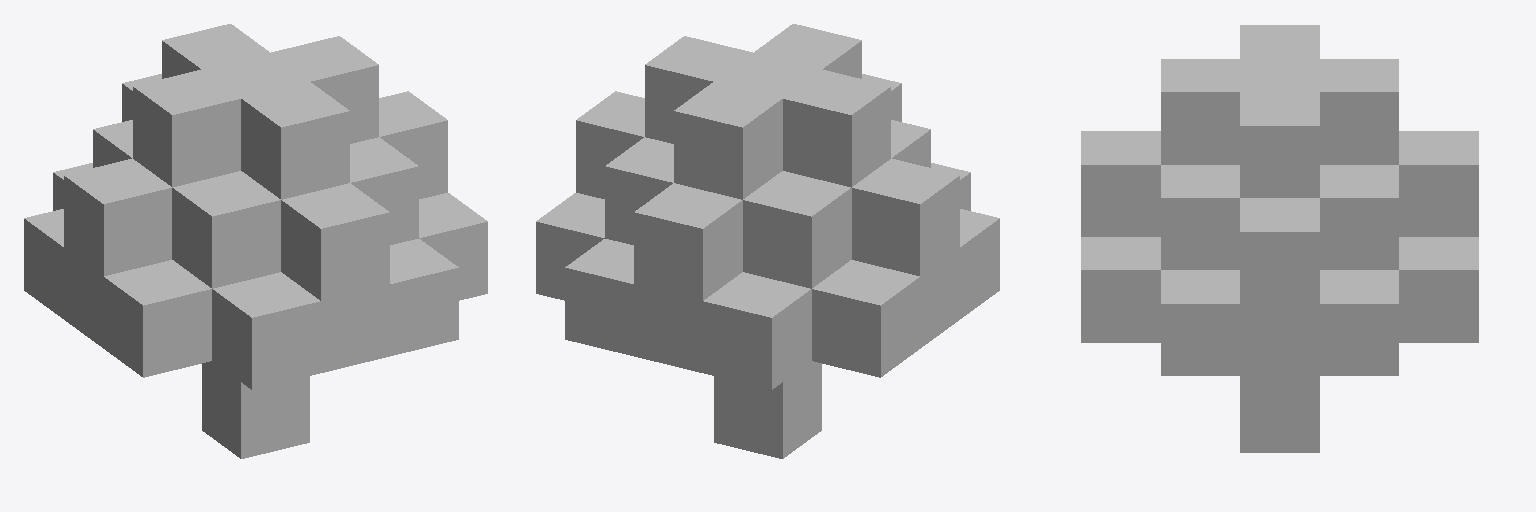
File: turret tower.obj
The picture shows the model from 3 angles: view 1: azimuth 30°, elevation 25°; view 2: azimuth 150°, elevation 25°; view 3: azimuth 270°, elevation 25°; orthographic projection.
Parts seen in each view (by area): view 1: object 1; view 2: object 1; view 3: object 1.
Boxes of the visible parts, x1,y1,x2,y2 form: object 1: [24, 24, 487, 458]; object 1: [536, 24, 999, 458]; object 1: [1081, 25, 1478, 452].
Bounding box in the file's own units: 0.5 × 0.5 × 0.5.